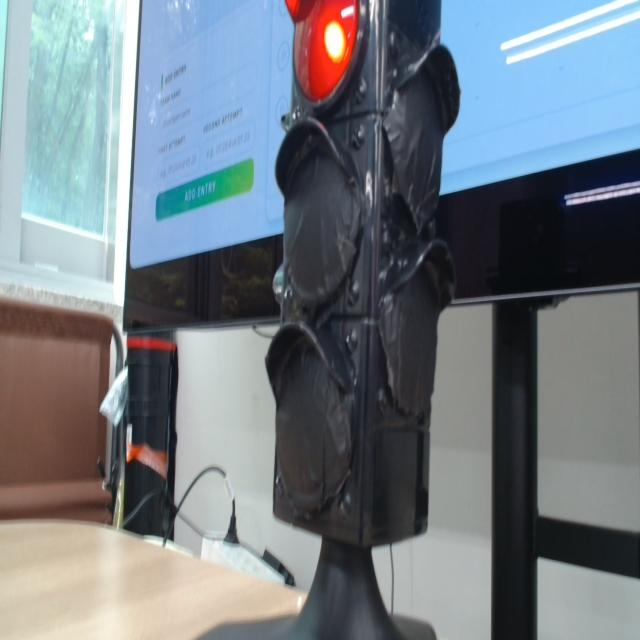red_light: (294, 0, 359, 103), (286, 0, 300, 20)
